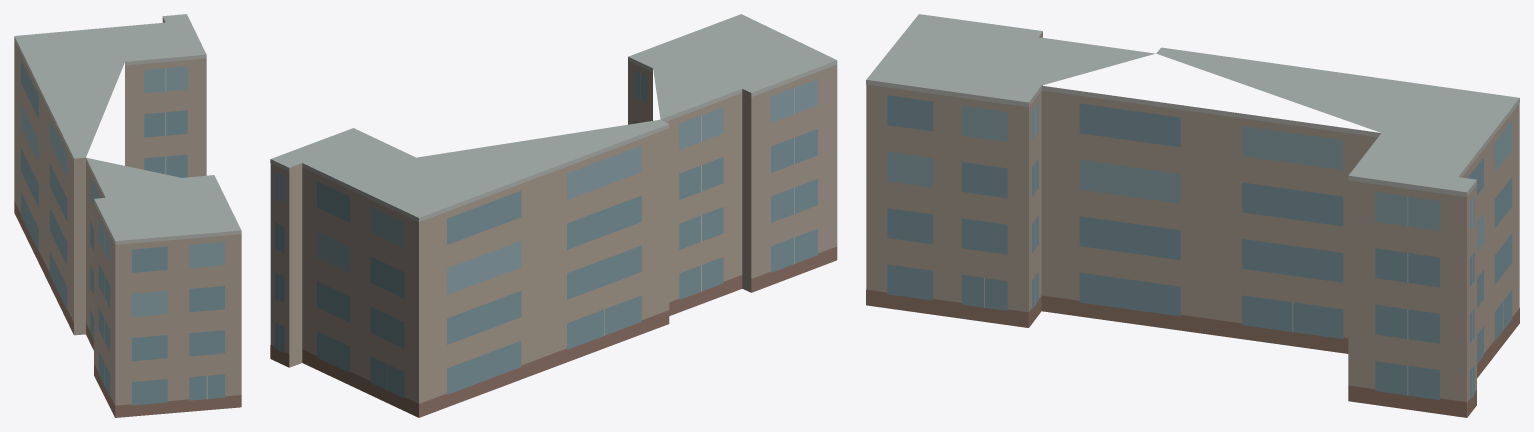
File: survey-upis-32539743.glb
The picture shows the model from 3 angles, left to right: view 1: azimuth 30°, elevation 25°; view 2: azimuth 150°, elevation 25°; view 3: azimuth 270°, elevation 25°; orthographic projection. The views are drawn at different scales.
Parts seen in each view (by area): view 1: survey-upis-32539743.tmp; view 2: survey-upis-32539743.tmp; view 3: survey-upis-32539743.tmp.
Boxes of the visible parts, x1,y1,x2,y2 form: survey-upis-32539743.tmp: [14, 14, 241, 417]; survey-upis-32539743.tmp: [270, 14, 837, 417]; survey-upis-32539743.tmp: [866, 14, 1519, 417].
Bounding box in the file's own units: 19.68 × 11.6 × 30.48.
